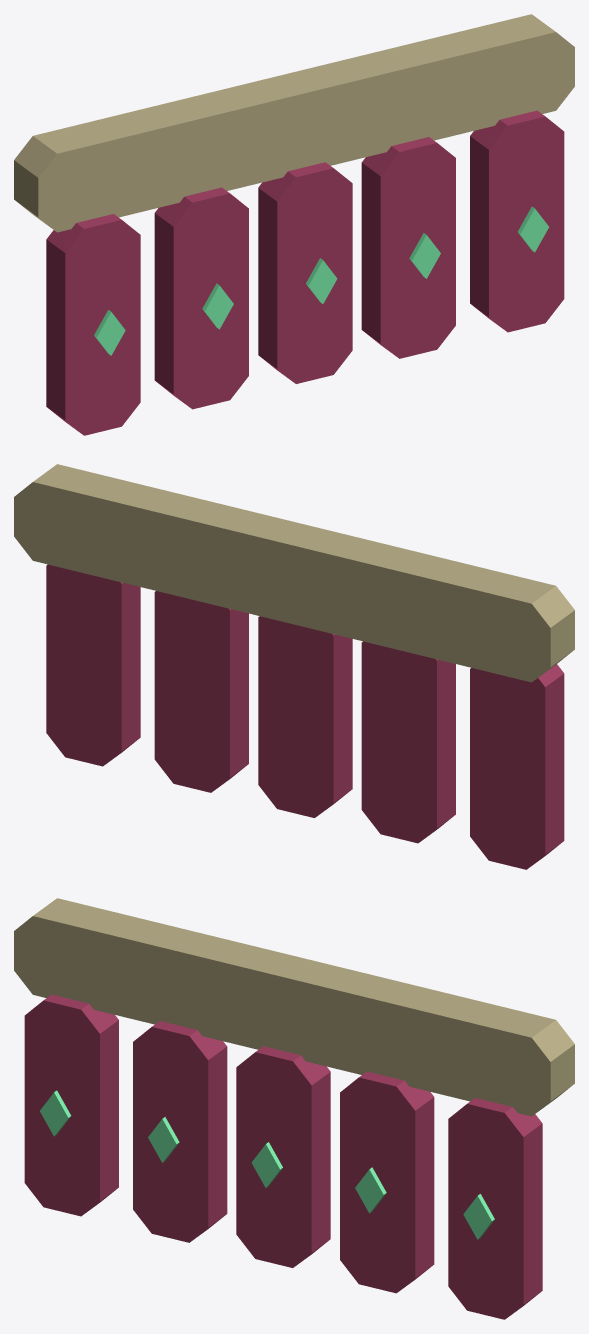
The model's file is talisman_fringe.obj.
3 views of the same model, one above another, from view 1: azimuth 30°, elevation 25°; view 2: azimuth 150°, elevation 25°; view 3: azimuth 330°, elevation 25° (orthographic).
Parts seen in each view (by area): view 1: talisman_hem, hem_talisman_0, hem_talisman_1, hem_talisman_3, hem_talisman_4, hem_talisman_2, talisman_hem_edge, hem_talisman_0_edge, hem_talisman_2_edge, hem_talisman_1_edge, hem_talisman_3_edge, hem_talisman_4_edge (+5 smaller); view 2: talisman_hem, talisman_hem_edge, hem_talisman_0, hem_talisman_4, hem_talisman_2, hem_talisman_1, hem_talisman_3, hem_talisman_0_edge, hem_talisman_4_edge, hem_talisman_2_edge, hem_talisman_1_edge, hem_talisman_3_edge; view 3: talisman_hem, hem_talisman_4, hem_talisman_0, hem_talisman_1, hem_talisman_3, hem_talisman_2, talisman_hem_edge, hem_talisman_4_edge, hem_talisman_2_edge, hem_talisman_3_edge, hem_talisman_1_edge, hem_talisman_0_edge (+5 smaller).
Boxes of the visible parts, <box> form: talisman_hem: <box>38,32,574,232</box>; hem_talisman_0: <box>65,220,140,435</box>; hem_talisman_1: <box>173,193,248,409</box>; hem_talisman_3: <box>380,143,455,358</box>; hem_talisman_4: <box>489,116,564,332</box>; hem_talisman_2: <box>277,168,352,383</box>; talisman_hem_edge: <box>14,14,555,230</box>; hem_talisman_0_edge: <box>46,214,121,433</box>; hem_talisman_2_edge: <box>258,162,333,382</box>; hem_talisman_1_edge: <box>154,187,229,407</box>; hem_talisman_3_edge: <box>361,137,436,356</box>; hem_talisman_4_edge: <box>470,110,544,329</box>; talisman_hem: <box>14,482,550,682</box>; talisman_hem_edge: <box>33,464,574,679</box>; hem_talisman_0: <box>470,668,545,869</box>; hem_talisman_4: <box>46,564,121,766</box>; hem_talisman_2: <box>258,616,333,817</box>; hem_talisman_1: <box>361,641,436,843</box>; hem_talisman_3: <box>154,591,229,792</box>; hem_talisman_0_edge: <box>529,664,564,867</box>; hem_talisman_4_edge: <box>105,582,140,764</box>; hem_talisman_2_edge: <box>318,634,352,815</box>; hem_talisman_1_edge: <box>420,659,455,841</box>; hem_talisman_3_edge: <box>214,608,248,790</box>; talisman_hem: <box>14,916,550,1116</box>; hem_talisman_4: <box>448,1104,523,1319</box>; hem_talisman_0: <box>24,1000,99,1216</box>; hem_talisman_1: <box>133,1027,208,1242</box>; hem_talisman_3: <box>340,1077,415,1293</box>; hem_talisman_2: <box>236,1052,311,1267</box>; talisman_hem_edge: <box>33,898,574,1114</box>; hem_talisman_4_edge: <box>467,1098,542,1317</box>; hem_talisman_2_edge: <box>255,1046,330,1266</box>; hem_talisman_3_edge: <box>359,1071,434,1291</box>; hem_talisman_1_edge: <box>152,1021,227,1240</box>; hem_talisman_0_edge: <box>44,994,118,1213</box>.
Bounding box in the file's own units: 1.14 × 0.57 × 0.1504.
